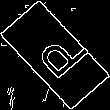P_SW: (22, 24, 88, 86)
